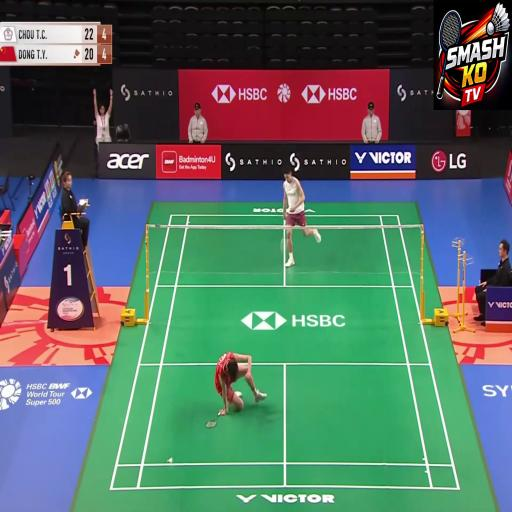player: (258, 156, 327, 274), (212, 300, 258, 436)
